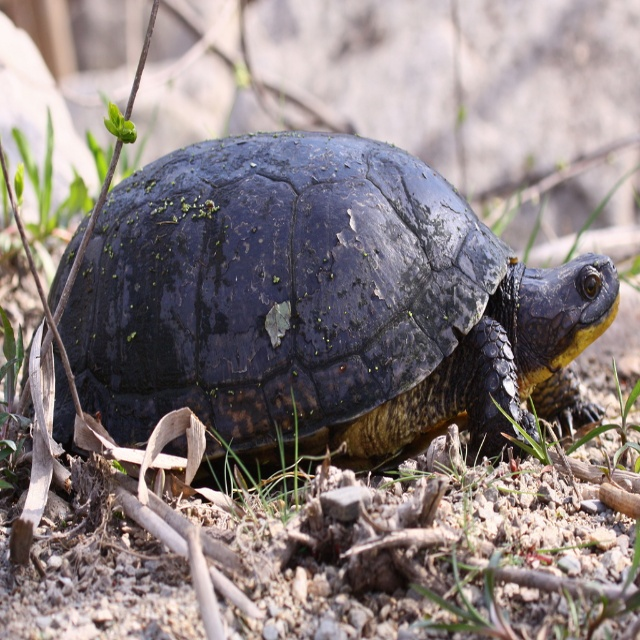Tortoise: (21, 132, 620, 498)
